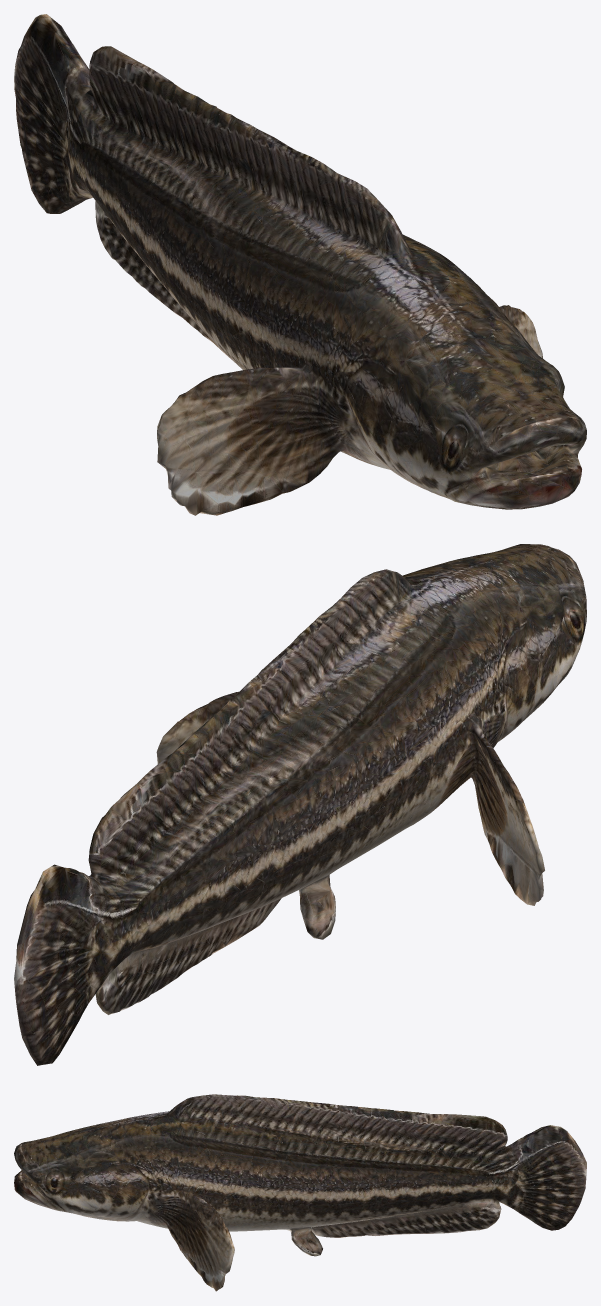
Rendered from fish_snakehead.glb.
The picture shows the model from 3 angles, top to bottom: view 1: azimuth 30°, elevation 25°; view 2: azimuth 150°, elevation 25°; view 3: azimuth 270°, elevation 25°; orthographic projection. The views are drawn at different scales.
Visible parts, largest first — view 1: geometry_0; view 2: geometry_0; view 3: geometry_0.
Boxes of the visible parts, x1=… form: geometry_0: x1=14, y1=14, x2=586, y2=515; geometry_0: x1=14, y1=544, x2=586, y2=1065; geometry_0: x1=14, y1=1094, x2=586, y2=1291.
Size of the model in its own units: 0.8175 by 0.5782 by 1.96.
Materials: 1 (1 with a texture image).
